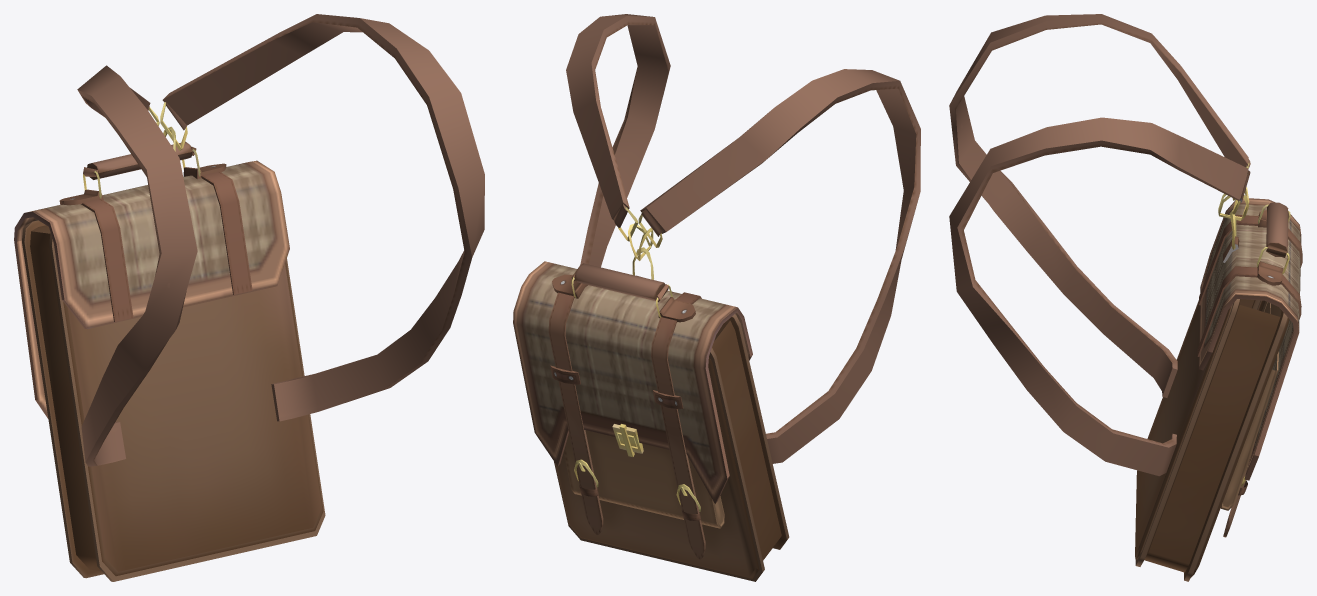
Rendered from Backpack_14_Male.fbx.
3 renders of one model, left to right at view 1: azimuth 30°, elevation 25°; view 2: azimuth 150°, elevation 25°; view 3: azimuth 270°, elevation 25°, orthographic. The views are drawn at different scales.
Parts seen in each view (by area): view 1: JK_Official39:Player4; view 2: JK_Official39:Player4; view 3: JK_Official39:Player4.
Boxes of the visible parts, x1,y1,x2,y2 form: JK_Official39:Player4: (14,14,484,581); JK_Official39:Player4: (513,14,920,581); JK_Official39:Player4: (949,14,1302,581).
Bounding box in the file's own units: 5.01 × 7.48 × 5.05.
